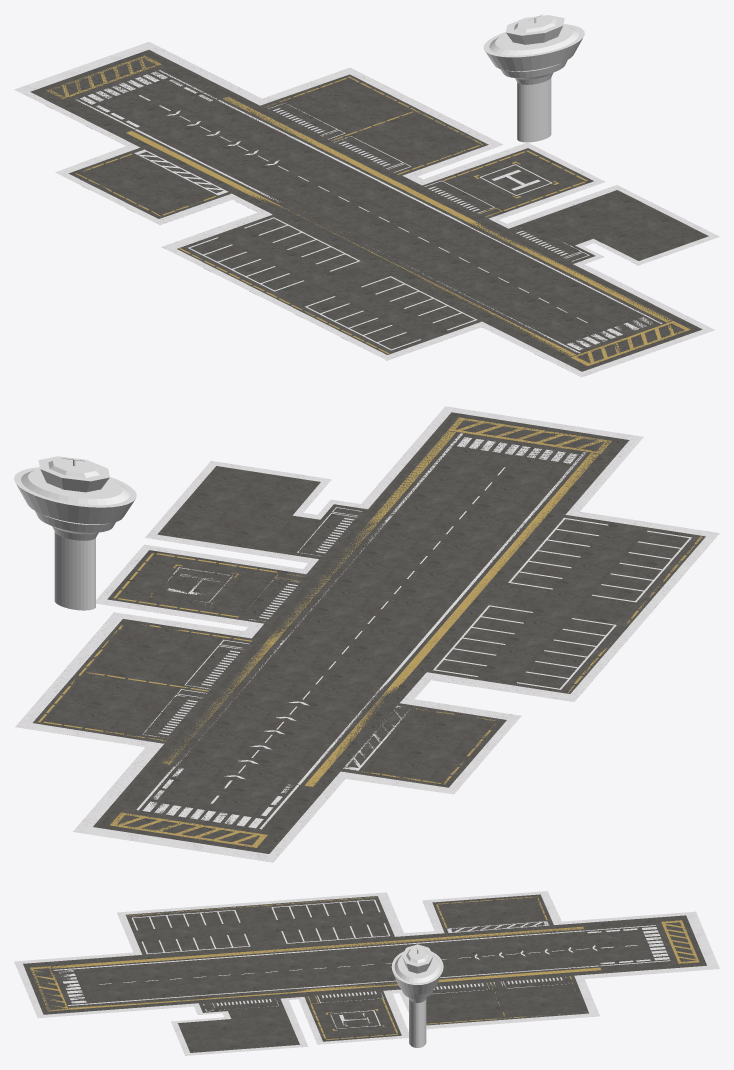
Rendered from Airport.obj.
3 views of the same model, one above another, from view 1: azimuth 30°, elevation 25°; view 2: azimuth 150°, elevation 25°; view 3: azimuth 270°, elevation 25° (orthographic). The views are drawn at different scales.
Visible parts, largest first — view 1: 035_Buffer_Layer, 034_Buffer_Layer, 001_Buffer_Layer, 023_Buffer_Layer, 022_Buffer_Layer, 028_Buffer_Layer, 019_Buffer_Layer, 013_Buffer_Layer, 012_Buffer_Layer, 041_Buffer_Layer, 036_Buffer_Layer; view 2: 035_Buffer_Layer, 034_Buffer_Layer, 001_Buffer_Layer, 022_Buffer_Layer, 023_Buffer_Layer, 028_Buffer_Layer, 013_Buffer_Layer, 012_Buffer_Layer, 018_Buffer_Layer, 041_Buffer_Layer, 027_Buffer_Layer, 036_Buffer_Layer; view 3: 035_Buffer_Layer, 034_Buffer_Layer, 001_Buffer_Layer, 022_Buffer_Layer, 023_Buffer_Layer, 028_Buffer_Layer, 018_Buffer_Layer, 019_Buffer_Layer, 012_Buffer_Layer, 013_Buffer_Layer, 041_Buffer_Layer, 014_Buffer_Layer (+5 smaller).
Part boxes in pixels (left/top/right/bottom): 035_Buffer_Layer: left=30, top=50, right=708, bottom=371; 034_Buffer_Layer: left=14, top=42, right=719, bottom=377; 001_Buffer_Layer: left=483, top=14, right=584, bottom=142; 023_Buffer_Layer: left=223, top=97, right=672, bottom=322; 022_Buffer_Layer: left=126, top=131, right=575, bottom=356; 028_Buffer_Layer: left=76, top=70, right=216, bottom=129; 019_Buffer_Layer: left=218, top=100, right=662, bottom=324; 013_Buffer_Layer: left=571, top=321, right=690, bottom=365; 012_Buffer_Layer: left=46, top=55, right=161, bottom=98; 041_Buffer_Layer: left=273, top=108, right=567, bottom=255; 036_Buffer_Layer: left=266, top=76, right=482, bottom=174; 035_Buffer_Layer: left=33, top=412, right=705, bottom=853; 034_Buffer_Layer: left=15, top=406, right=719, bottom=862; 001_Buffer_Layer: left=14, top=456, right=136, bottom=610; 022_Buffer_Layer: left=304, top=453, right=598, bottom=786; 023_Buffer_Layer: left=162, top=431, right=455, bottom=764; 028_Buffer_Layer: left=136, top=766, right=298, bottom=829; 013_Buffer_Layer: left=448, top=417, right=611, bottom=453; 012_Buffer_Layer: left=110, top=812, right=267, bottom=847; 018_Buffer_Layer: left=298, top=452, right=586, bottom=784; 041_Buffer_Layer: left=159, top=518, right=354, bottom=735; 027_Buffer_Layer: left=457, top=437, right=577, bottom=463; 036_Buffer_Layer: left=38, top=624, right=251, bottom=741; 035_Buffer_Layer: left=23, top=894, right=706, bottom=1052; 034_Buffer_Layer: left=14, top=891, right=719, bottom=1055; 001_Buffer_Layer: left=391, top=944, right=443, bottom=1047; 022_Buffer_Layer: left=51, top=926, right=583, bottom=968; 023_Buffer_Layer: left=69, top=967, right=600, bottom=1009; 028_Buffer_Layer: left=586, top=925, right=670, bottom=965; 018_Buffer_Layer: left=53, top=930, right=584, bottom=970; 019_Buffer_Layer: left=68, top=965, right=598, bottom=1005; 012_Buffer_Layer: left=661, top=920, right=699, bottom=963; 013_Buffer_Layer: left=30, top=966, right=68, bottom=1011; 041_Buffer_Layer: left=216, top=977, right=562, bottom=1005; 014_Buffer_Layer: left=447, top=921, right=549, bottom=932.
Bounding box in the file's own units: 1156 × 296 × 2040.
6 materials, 5 textured.
